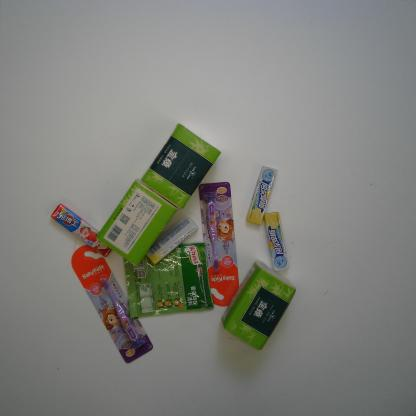Candy: (50, 204, 117, 259), (145, 216, 198, 266), (244, 164, 278, 226), (263, 210, 290, 272)
Personal Hygiene: (68, 242, 155, 366), (198, 180, 242, 308)
Seasoner: (122, 239, 216, 320)
Tissue: (95, 176, 178, 270), (138, 121, 224, 210), (217, 258, 298, 352)
